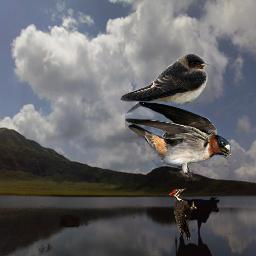Swallow: (125, 101, 231, 181), (120, 53, 209, 114)
Woodpecker: (169, 188, 197, 242)
